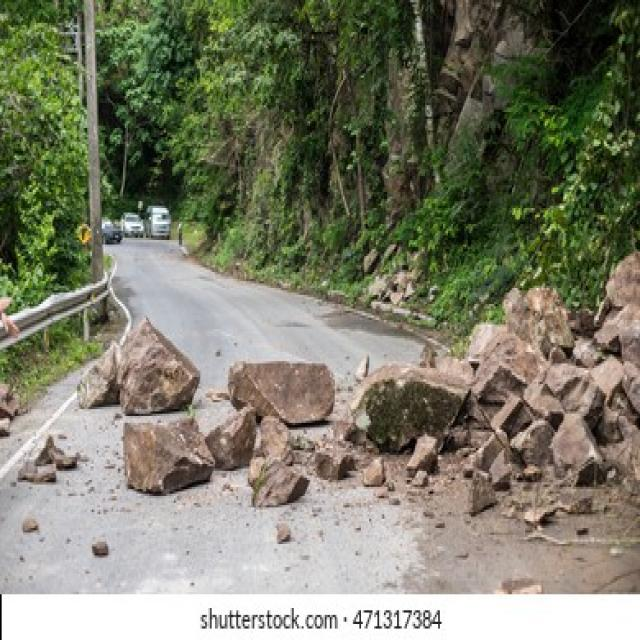landSliding: (24, 228, 640, 594)
